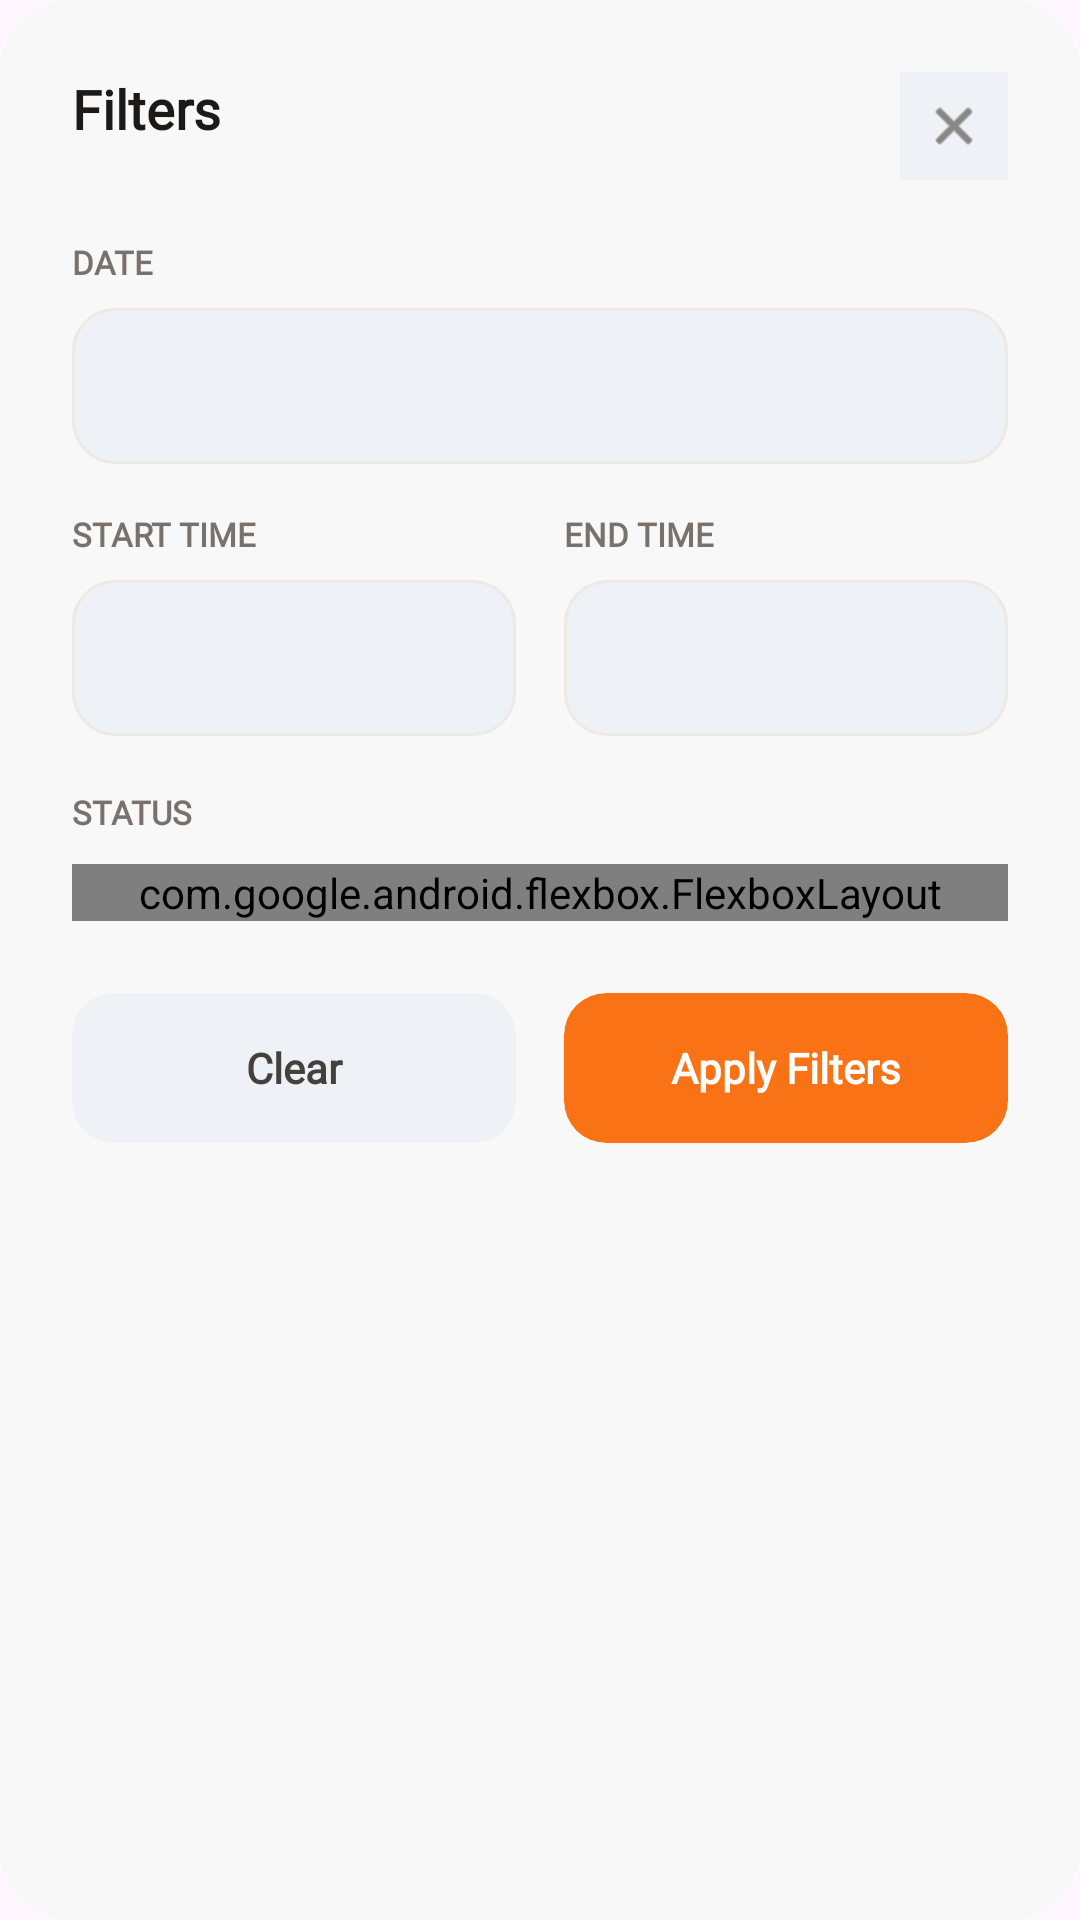

Named icons in this screenshot (1080px×1920px) and their bounding boxes, (x1, y1, x2, y2):
close clear cancel: (900, 72, 1008, 180)
